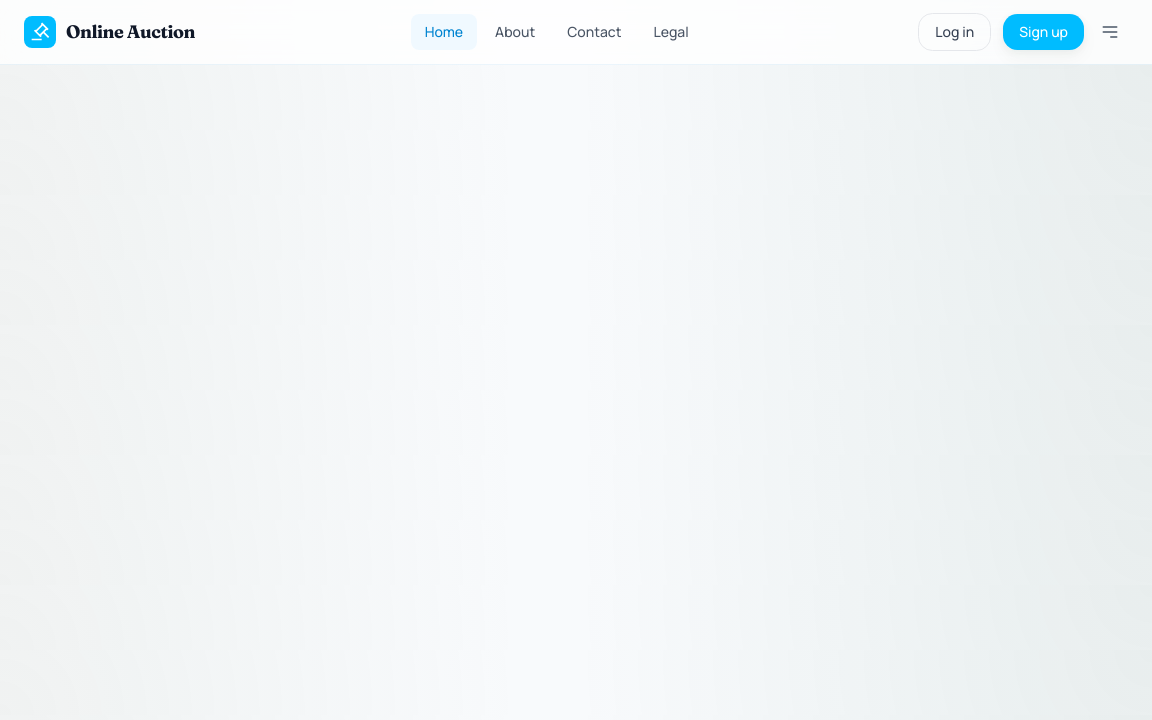
Test: ModernNavbar › Drawer Functionality › should open drawer when hamburger menu is clicked
The width and height of the screenshot is (1152, 720).
Click the button named "toggle menu": (1110, 32) top-left (1092, 14), bottom-right (1128, 50)
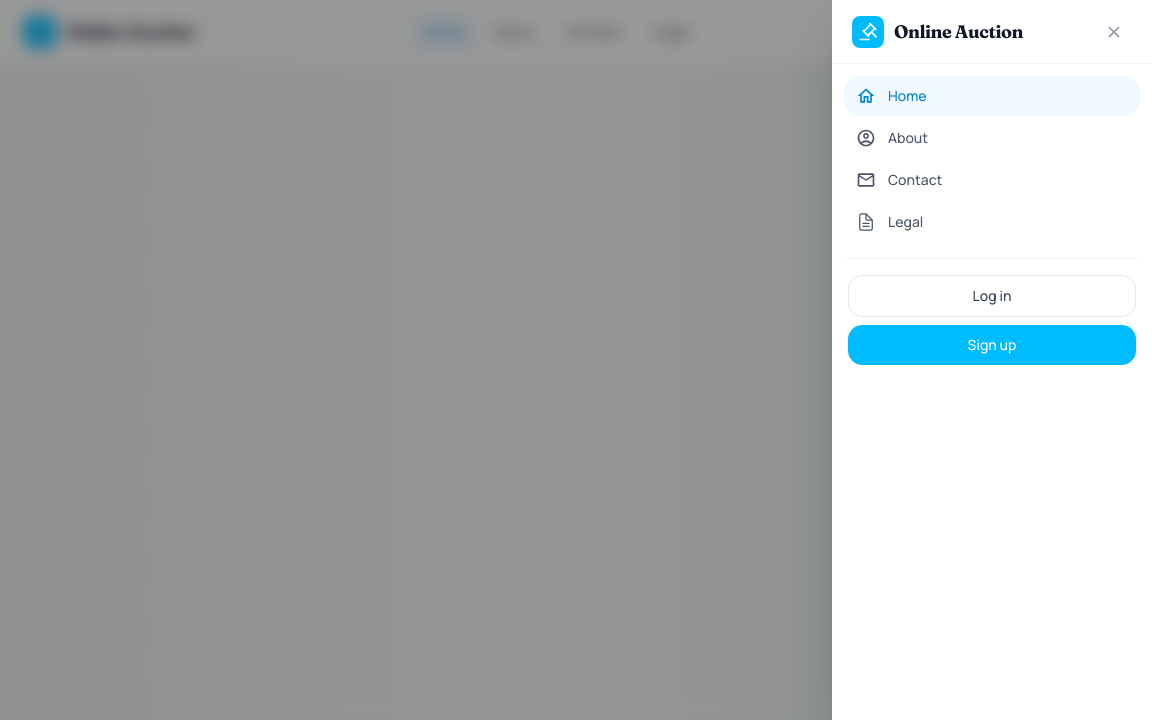
Expected: the button named "close menu" is shown, top-left (1096, 14), bottom-right (1132, 50)
